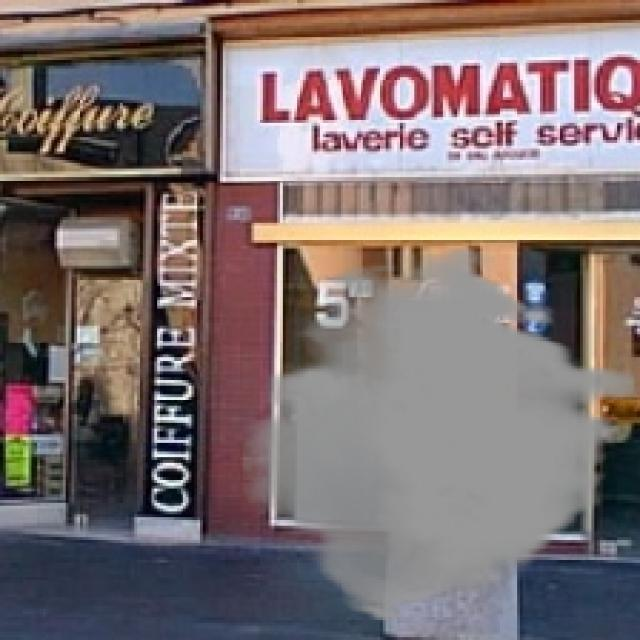Smoke: (242, 246, 634, 623)
